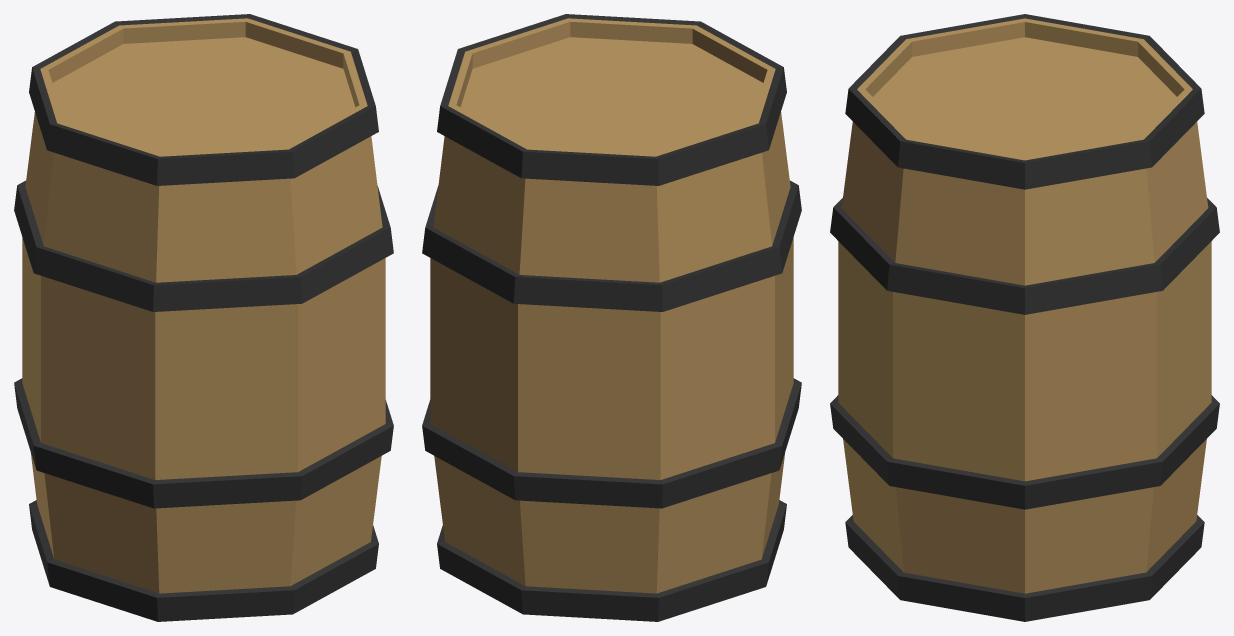
The model's file is Barrel4.fbx.
3 views of the same model, side by side, from view 1: azimuth 30°, elevation 25°; view 2: azimuth 150°, elevation 25°; view 3: azimuth 270°, elevation 25° (orthographic).
Visible parts, largest first — view 1: Cylinder; view 2: Cylinder; view 3: Cylinder.
Boxes of the visible parts, x1,y1,x2,y2 form: Cylinder: [14, 14, 393, 621]; Cylinder: [422, 14, 801, 621]; Cylinder: [830, 14, 1219, 621].
Size of the model in its own units: 0.9279 by 1.2 by 0.9279.
